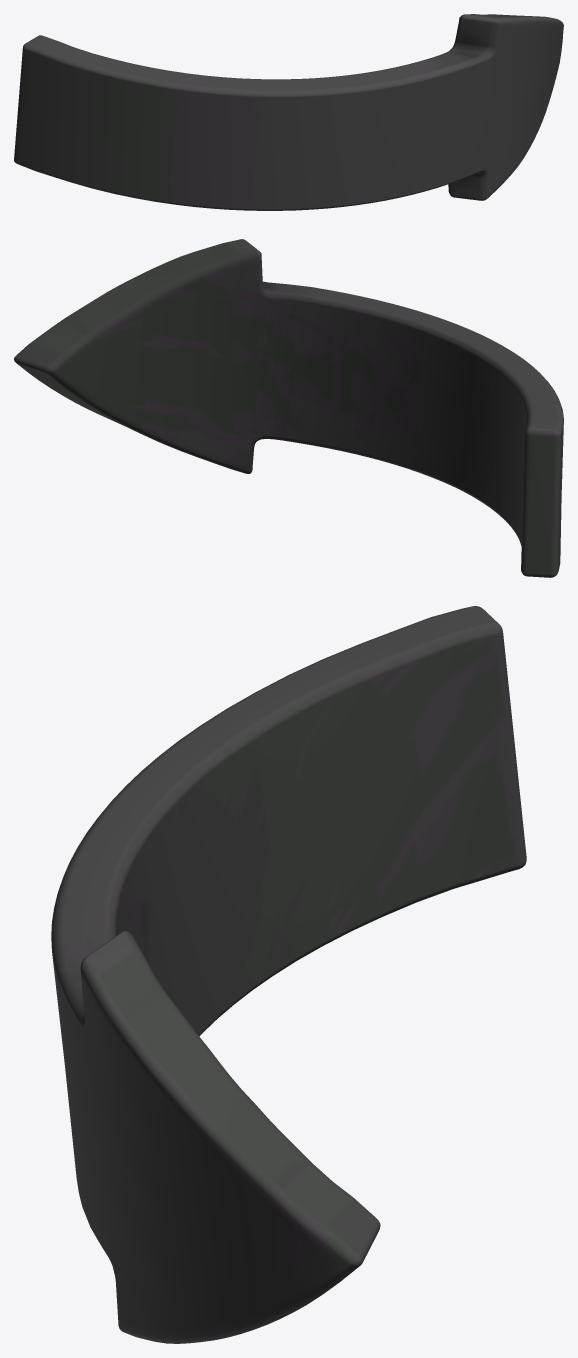
Rendered from arrow.fbx.
3 renders of one model, top to bottom at view 1: azimuth 30°, elevation 25°; view 2: azimuth 150°, elevation 25°; view 3: azimuth 270°, elevation 25°, orthographic. The views are drawn at different scales.
Parts seen in each view (by area): view 1: node_id30; view 2: node_id30; view 3: node_id30.
Part boxes in pixels (bbox=[...]): node_id30: bbox=[14, 14, 563, 210]; node_id30: bbox=[14, 239, 563, 577]; node_id30: bbox=[51, 606, 526, 1343].
Size of the model in its own units: 0.561 by 0.1999 by 0.2257.
1 material, 1 textured.
